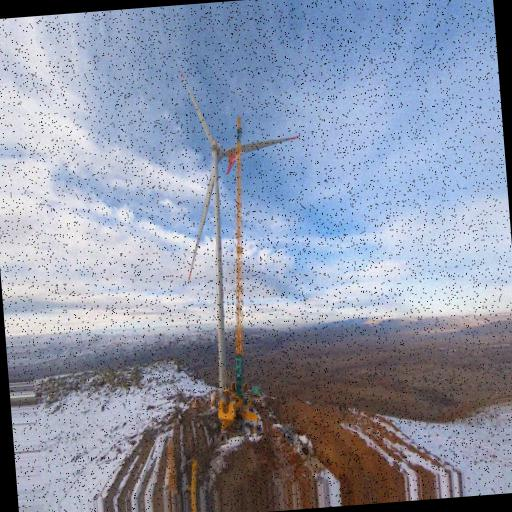wind turbine: (176, 67, 302, 402)
